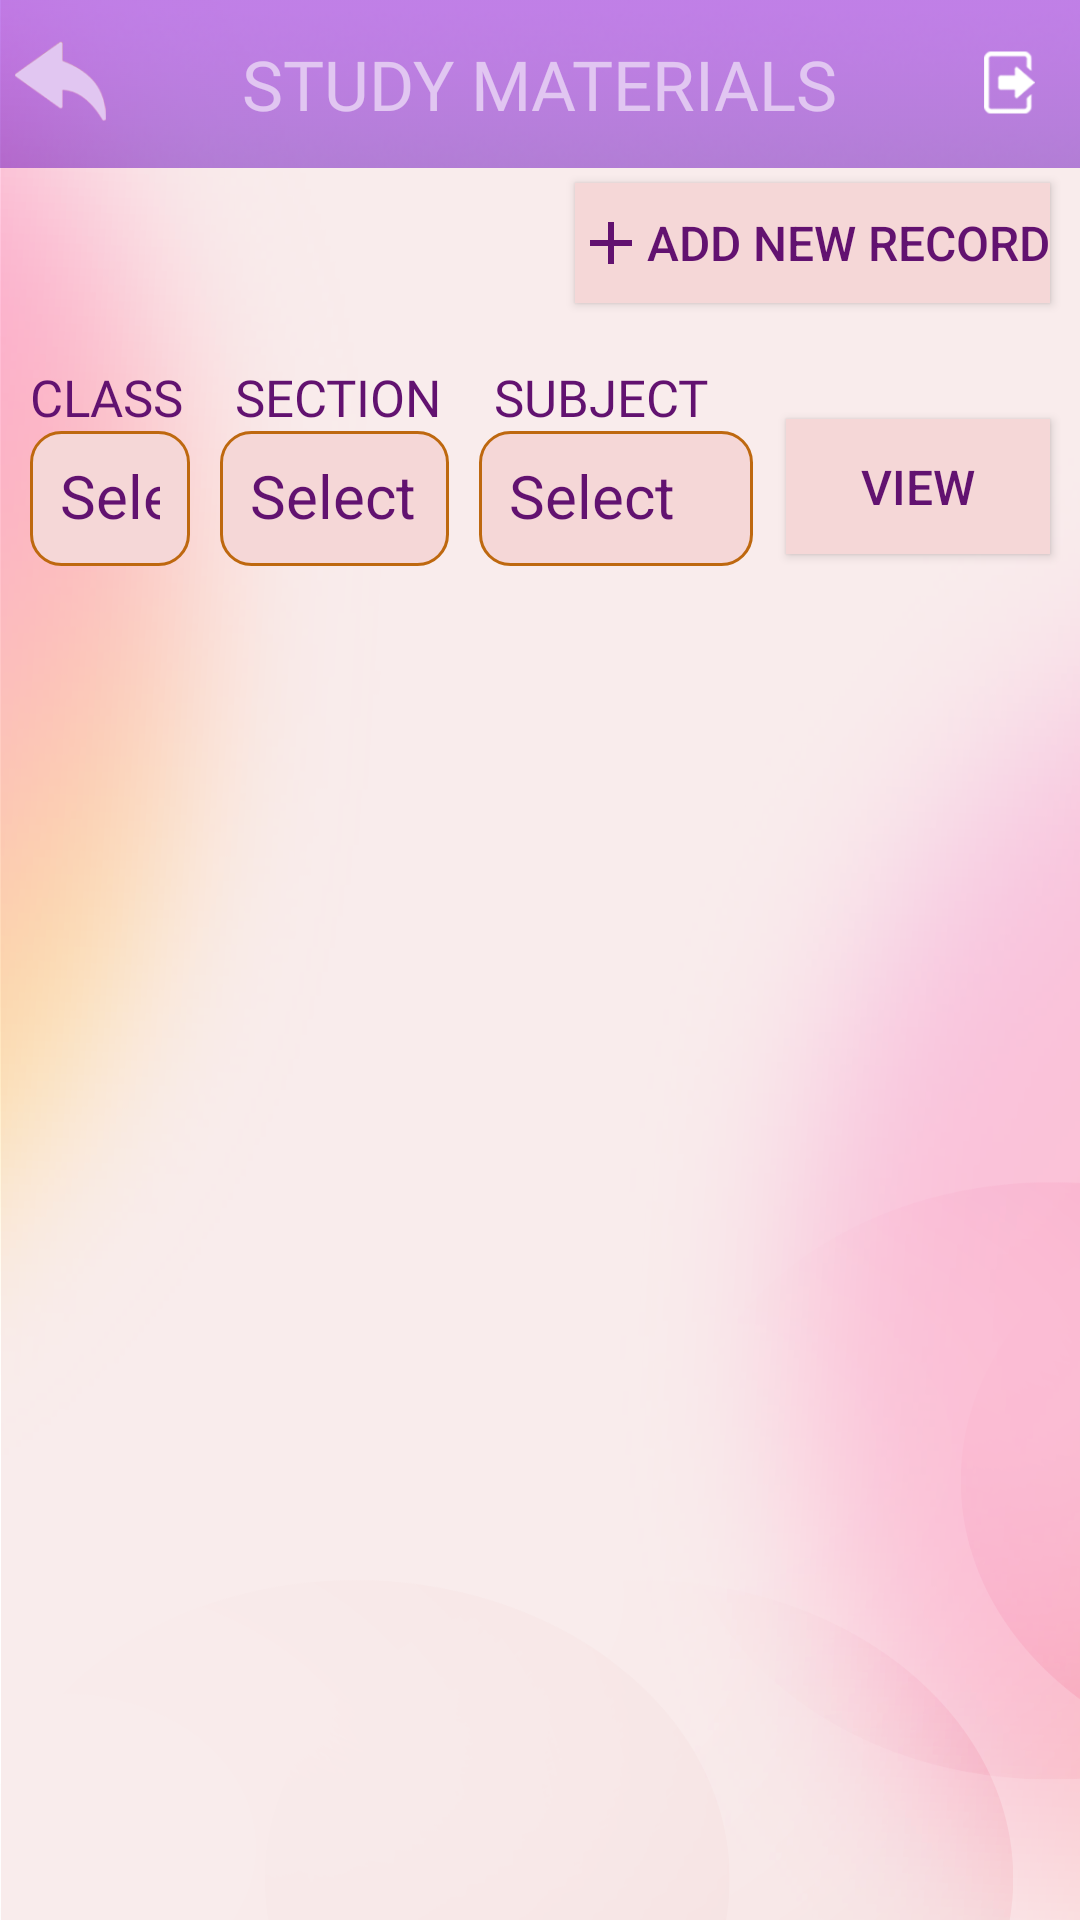

Where icons sit on this 1080w x 1920h app screen, as (x1, y1, x2, y2):
undo: (0, 41, 120, 144)
